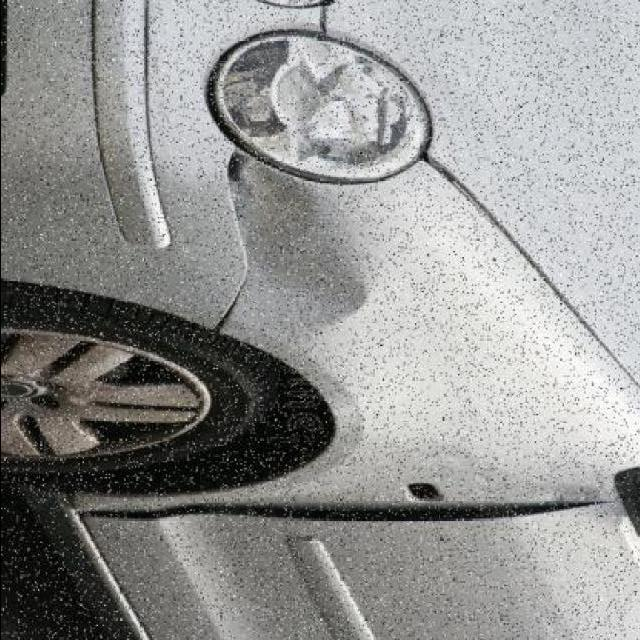fender-dent: (141, 154, 545, 521)
